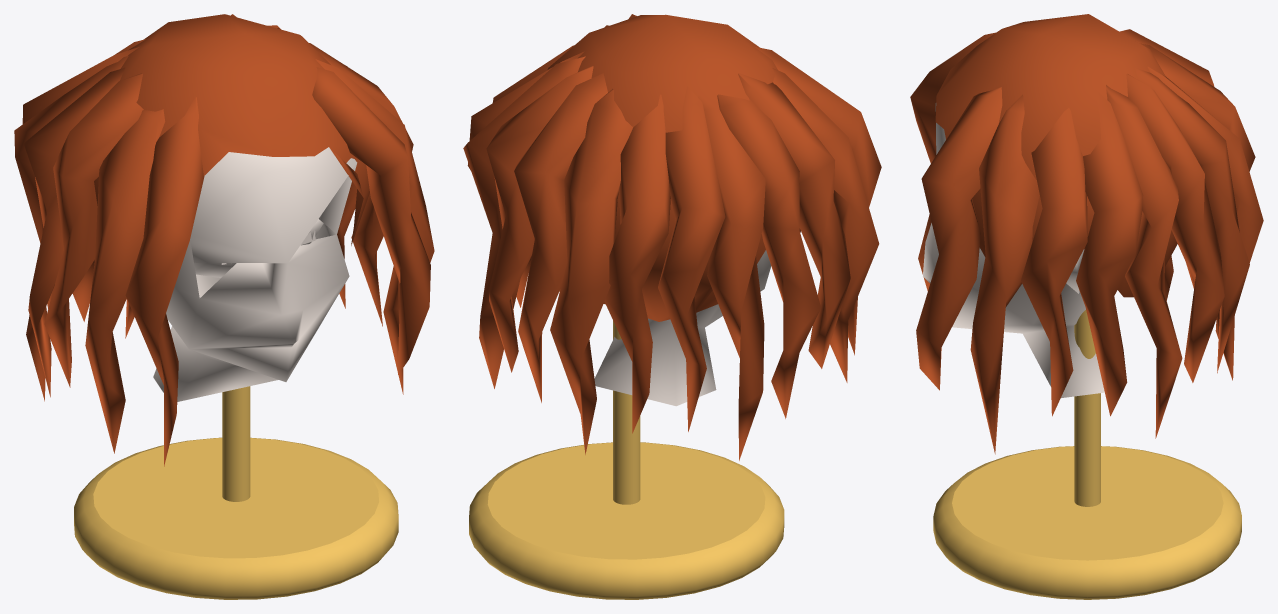
Rendered from rain.hair.auburn-volume.lod1.glb.
The picture shows the model from 3 angles, left to right: view 1: azimuth 30°, elevation 25°; view 2: azimuth 150°, elevation 25°; view 3: azimuth 270°, elevation 25°; orthographic projection. The views are drawn at different scales.
Visible parts, largest first — view 1: stand_base, GEO-rain-head, Hairstyles.auburn-volume.Crown, Hairstyles.auburn-volume.Curl 13Anchor.Curl 13, Hairstyles.auburn-volume.Curl 14Anchor.Curl 14, Hairstyles.auburn-volume.Curl 0Anchor.Curl 0, Hairstyles.auburn-volume.Curl 12Anchor.Curl 12, Hairstyles.auburn-volume.Curl 11Anchor.Curl 11, Hairstyles.auburn-volume.Curl 1Anchor.Curl 1, Hairstyles.auburn-volume.Curl 10Anchor.Curl 10, stand_stem, Hairstyles.auburn-volume.Curl 2Anchor.Curl 2 (+4 smaller); view 2: stand_base, Hairstyles.auburn-volume.Crown, Hairstyles.auburn-volume.Curl 7Anchor.Curl 7, Hairstyles.auburn-volume.Curl 10Anchor.Curl 10, Hairstyles.auburn-volume.Curl 8Anchor.Curl 8, Hairstyles.auburn-volume.Curl 9Anchor.Curl 9, Hairstyles.auburn-volume.Curl 6Anchor.Curl 6, Hairstyles.auburn-volume.Curl 11Anchor.Curl 11, Hairstyles.auburn-volume.Curl 12Anchor.Curl 12, Hairstyles.auburn-volume.Curl 5Anchor.Curl 5, Hairstyles.auburn-volume.Curl 13Anchor.Curl 13, GEO-rain-head (+5 smaller); view 3: stand_base, Hairstyles.auburn-volume.Crown, Hairstyles.auburn-volume.Curl 0Anchor.Curl 0, Hairstyles.auburn-volume.Curl 1Anchor.Curl 1, Hairstyles.auburn-volume.Curl 3Anchor.Curl 3, Hairstyles.auburn-volume.Curl 2Anchor.Curl 2, Hairstyles.auburn-volume.Curl 4Anchor.Curl 4, Hairstyles.auburn-volume.Curl 5Anchor.Curl 5, Hairstyles.auburn-volume.Curl 6Anchor.Curl 6, GEO-rain-head, stand_stem, Hairstyles.auburn-volume.Curl 7Anchor.Curl 7 (+3 smaller).
Part boxes in pixels (<box>): stand_base: <box>74,437,398,599</box>; GEO-rain-head: <box>153,147,357,401</box>; Hairstyles.auburn-volume.Crown: <box>94,14,369,245</box>; Hairstyles.auburn-volume.Curl 13Anchor.Curl 13: <box>85,109,165,453</box>; Hairstyles.auburn-volume.Curl 14Anchor.Curl 14: <box>125,96,204,466</box>; Hairstyles.auburn-volume.Curl 0Anchor.Curl 0: <box>312,67,430,374</box>; Hairstyles.auburn-volume.Curl 12Anchor.Curl 12: <box>44,73,143,387</box>; Hairstyles.auburn-volume.Curl 11Anchor.Curl 11: <box>23,67,125,397</box>; Hairstyles.auburn-volume.Curl 1Anchor.Curl 1: <box>315,59,434,394</box>; Hairstyles.auburn-volume.Curl 10Anchor.Curl 10: <box>14,56,128,401</box>; stand_stem: <box>222,386,250,501</box>; Hairstyles.auburn-volume.Curl 2Anchor.Curl 2: <box>309,43,413,326</box>; stand_base: <box>469,442,784,599</box>; Hairstyles.auburn-volume.Crown: <box>547,14,800,321</box>; Hairstyles.auburn-volume.Curl 7Anchor.Curl 7: <box>550,89,632,454</box>; Hairstyles.auburn-volume.Curl 10Anchor.Curl 10: <box>698,95,765,460</box>; Hairstyles.auburn-volume.Curl 8Anchor.Curl 8: <box>604,94,670,433</box>; Hairstyles.auburn-volume.Curl 9Anchor.Curl 9: <box>658,86,725,431</box>; Hairstyles.auburn-volume.Curl 6Anchor.Curl 6: <box>514,73,607,402</box>; Hairstyles.auburn-volume.Curl 11Anchor.Curl 11: <box>717,94,821,418</box>; Hairstyles.auburn-volume.Curl 12Anchor.Curl 12: <box>738,73,850,368</box>; Hairstyles.auburn-volume.Curl 5Anchor.Curl 5: <box>486,66,593,372</box>; Hairstyles.auburn-volume.Curl 13Anchor.Curl 13: <box>772,68,879,382</box>; GEO-rain-head: <box>594,250,771,406</box>; stand_base: <box>933,446,1241,599</box>; Hairstyles.auburn-volume.Crown: <box>935,14,1177,297</box>; Hairstyles.auburn-volume.Curl 0Anchor.Curl 0: <box>916,87,1002,390</box>; Hairstyles.auburn-volume.Curl 1Anchor.Curl 1: <box>970,94,1039,454</box>; Hairstyles.auburn-volume.Curl 3Anchor.Curl 3: <box>1076,89,1143,416</box>; Hairstyles.auburn-volume.Curl 2Anchor.Curl 2: <box>1021,108,1087,416</box>; Hairstyles.auburn-volume.Curl 4Anchor.Curl 4: <box>1106,85,1182,438</box>; Hairstyles.auburn-volume.Curl 5Anchor.Curl 5: <box>1126,74,1224,382</box>; Hairstyles.auburn-volume.Curl 6Anchor.Curl 6: <box>1135,67,1249,373</box>; GEO-rain-head: <box>923,103,1104,397</box>; stand_stem: <box>1074,310,1100,506</box>; Hairstyles.auburn-volume.Curl 7Anchor.Curl 7: <box>1147,66,1263,380</box>.
Bounding box in the file's own units: 0.536 × 0.7511 × 0.4808.
